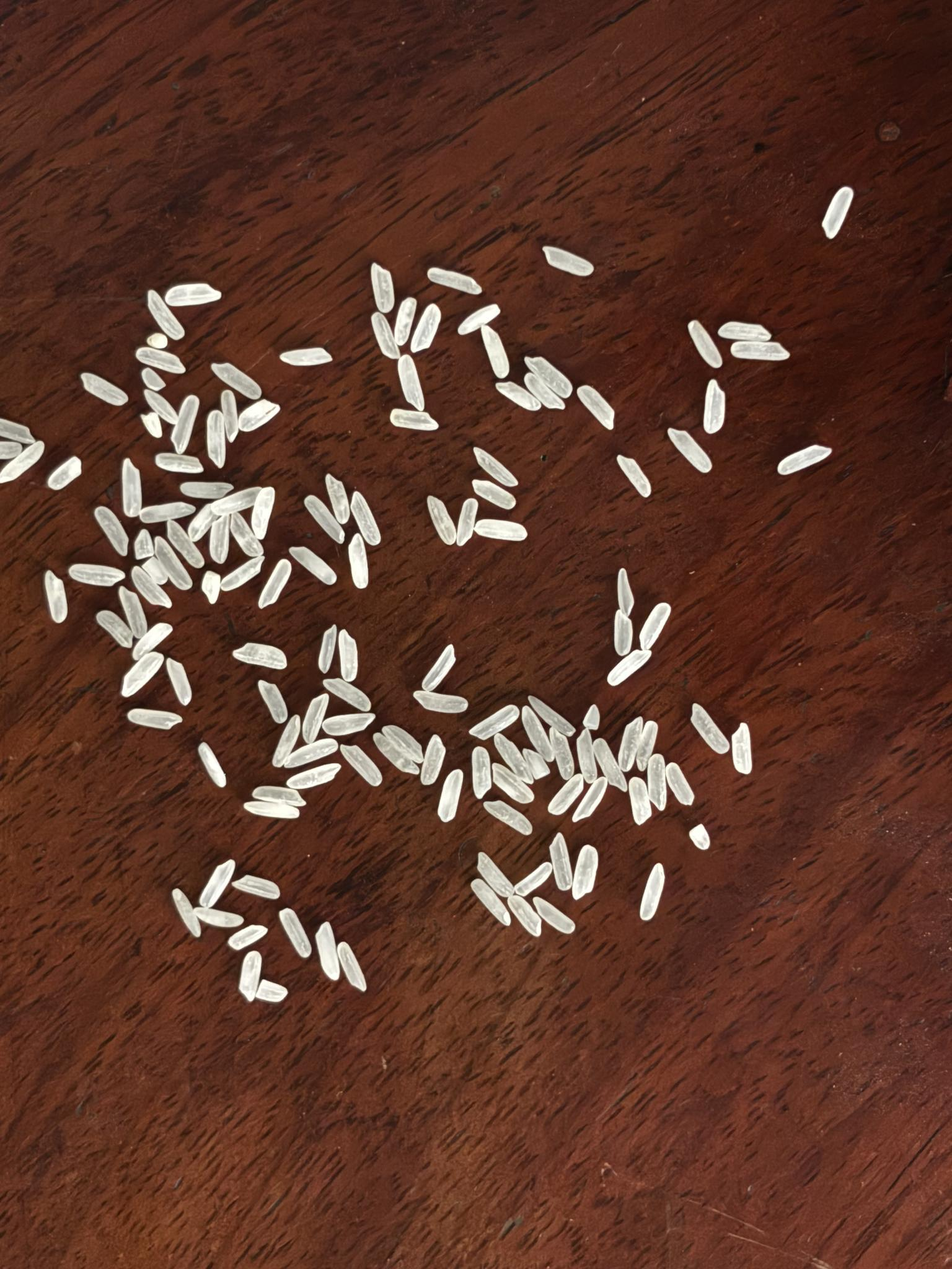Rice-th-y-nh: (152, 536, 193, 592), (143, 289, 186, 342), (667, 426, 713, 474), (303, 494, 347, 544), (392, 354, 430, 411), (165, 518, 205, 571), (120, 652, 165, 699), (689, 703, 729, 755), (211, 361, 263, 401), (371, 731, 418, 775), (527, 694, 575, 737), (289, 544, 338, 585), (527, 355, 573, 398), (471, 446, 518, 488), (697, 380, 733, 434), (575, 384, 616, 431), (492, 733, 531, 782), (198, 859, 236, 909), (340, 744, 384, 787), (468, 704, 520, 740), (520, 706, 554, 761), (686, 319, 724, 368), (130, 566, 173, 609), (0, 441, 45, 482), (593, 738, 627, 792), (78, 371, 129, 407), (277, 907, 313, 958), (365, 262, 400, 314), (777, 442, 832, 475), (471, 880, 511, 925), (94, 505, 130, 555), (257, 558, 293, 608), (606, 648, 652, 687), (542, 244, 594, 278), (491, 763, 534, 804), (483, 800, 533, 835), (427, 265, 483, 296), (523, 372, 567, 411), (821, 187, 854, 239), (476, 853, 514, 898), (350, 492, 381, 547), (480, 324, 511, 379), (220, 555, 266, 592), (171, 394, 200, 452), (324, 677, 372, 712), (571, 777, 608, 822), (615, 454, 652, 499), (229, 512, 265, 558), (233, 640, 288, 670), (271, 715, 302, 768), (533, 895, 575, 934), (425, 495, 457, 546), (210, 485, 261, 517), (283, 738, 337, 768), (421, 645, 456, 691), (314, 921, 341, 980), (381, 725, 424, 762), (639, 602, 672, 650), (410, 304, 442, 353), (450, 498, 482, 547), (370, 311, 401, 361), (639, 864, 666, 921), (117, 587, 147, 638), (95, 610, 134, 649), (547, 774, 584, 815), (132, 622, 173, 659), (286, 763, 340, 791), (495, 380, 542, 412), (457, 302, 501, 336), (471, 477, 516, 510), (203, 411, 229, 468), (135, 346, 186, 375), (337, 943, 367, 992), (508, 894, 542, 937), (42, 570, 69, 624), (617, 717, 644, 770), (249, 486, 276, 539), (572, 845, 598, 900), (69, 562, 126, 587), (257, 680, 289, 724), (549, 729, 576, 781), (437, 770, 464, 822), (323, 474, 351, 524), (164, 657, 193, 705), (251, 783, 306, 808), (664, 762, 695, 806), (172, 890, 201, 937), (139, 500, 193, 525), (302, 693, 329, 743), (142, 389, 179, 425), (514, 863, 553, 897), (197, 743, 227, 787), (549, 834, 573, 889), (120, 460, 143, 517), (420, 735, 446, 785), (718, 319, 770, 344), (127, 707, 181, 731), (414, 690, 468, 714), (391, 297, 417, 346), (323, 712, 376, 736), (179, 478, 232, 502), (347, 534, 370, 589), (475, 517, 527, 541), (627, 777, 653, 825), (575, 729, 598, 783), (46, 456, 82, 490), (336, 630, 360, 681), (207, 515, 233, 562), (238, 404, 280, 433), (244, 798, 299, 820), (646, 754, 668, 809), (194, 905, 244, 929), (238, 951, 262, 1001), (730, 722, 753, 774), (389, 408, 438, 432), (234, 875, 281, 900), (154, 452, 205, 475), (635, 721, 659, 769), (316, 624, 339, 673), (470, 747, 492, 798), (219, 390, 241, 440), (280, 347, 332, 367), (228, 924, 267, 950), (615, 569, 636, 617), (0, 417, 35, 445), (198, 570, 225, 604), (142, 556, 170, 585), (524, 748, 550, 779), (256, 980, 287, 1002), (140, 367, 166, 391), (134, 529, 154, 560), (140, 412, 162, 439), (689, 823, 711, 850), (583, 704, 601, 731)
